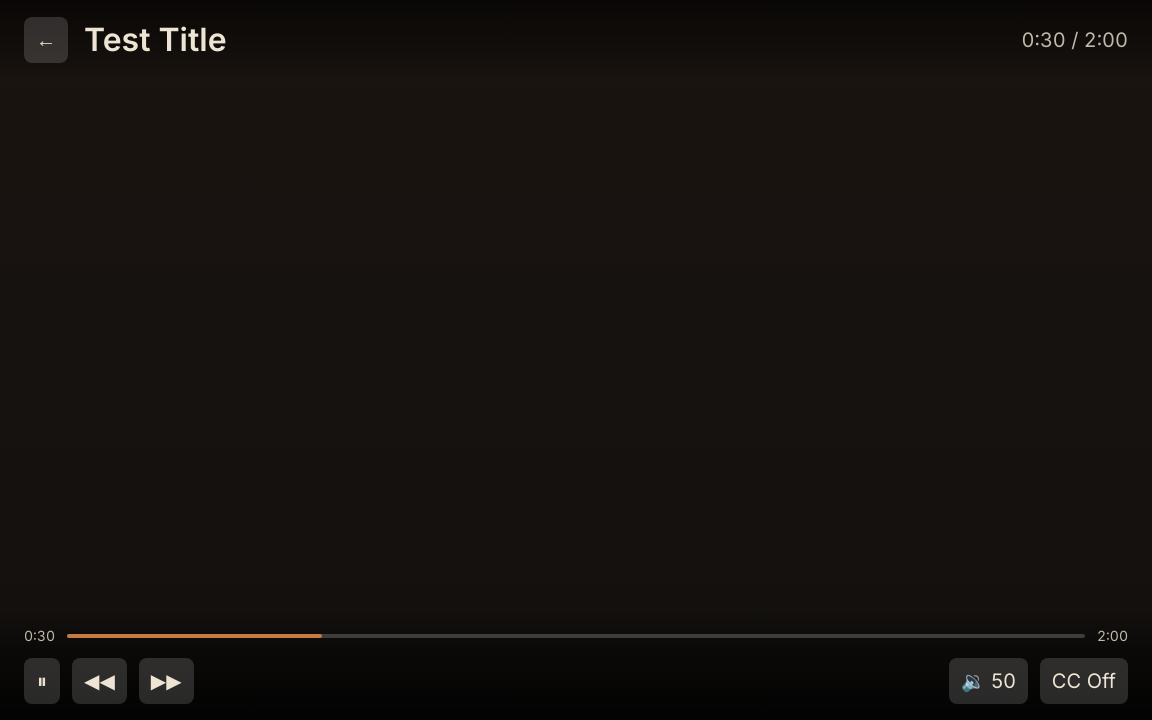
Test: PlayerControls › subtitles popover renders Off + tracks
The image size is (1152, 720).
What coordinates should you click on to do the following:
click the button with aria-label "subtitles"
I would click on:
 (1084, 681)
Its box is [1040, 658, 1128, 704].
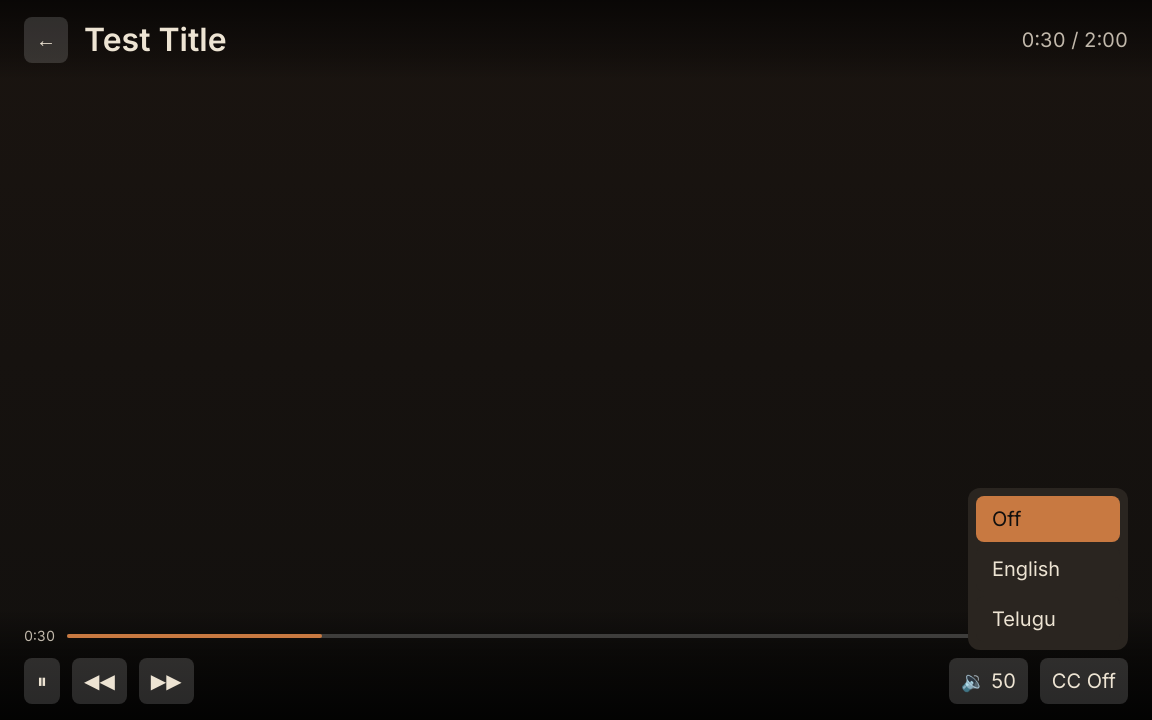
Check: the button "Off" is shown, box [976, 496, 1120, 542]
Check: the button "English" is shown, box [976, 546, 1120, 592]
Check: the button "Telugu" is shown, box [976, 596, 1120, 642]
